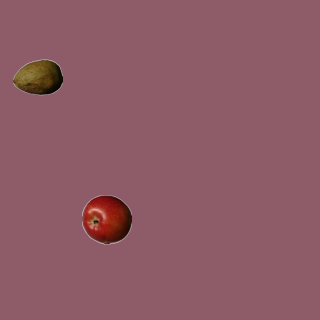Apple Braeburn: (81, 194, 131, 244)
Papaya: (12, 52, 62, 102)
